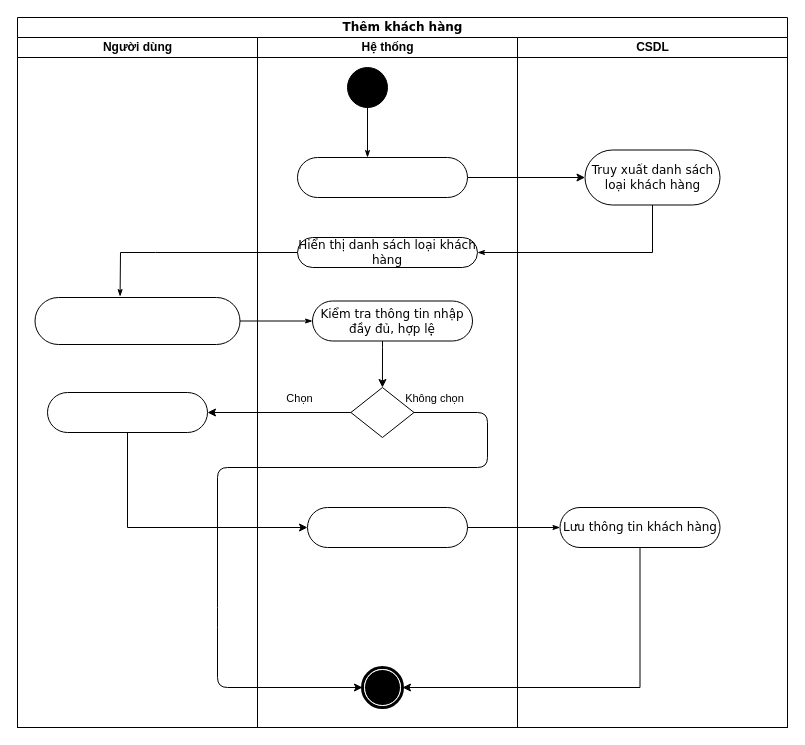
This 805x745 diagram has some shape labels left out. The box of each missing label's shape, as (x1, y1, x2, y2) in pixels:
Chọn loại khách hàng và nhập thông tin khách hàng: (34, 296, 240, 344)
Chọn thêm khách hàng: (46, 392, 208, 432)
Lấy thông tin loại khách hàng: (296, 156, 468, 198)
Tạo khách hàng mới: (306, 506, 468, 548)
